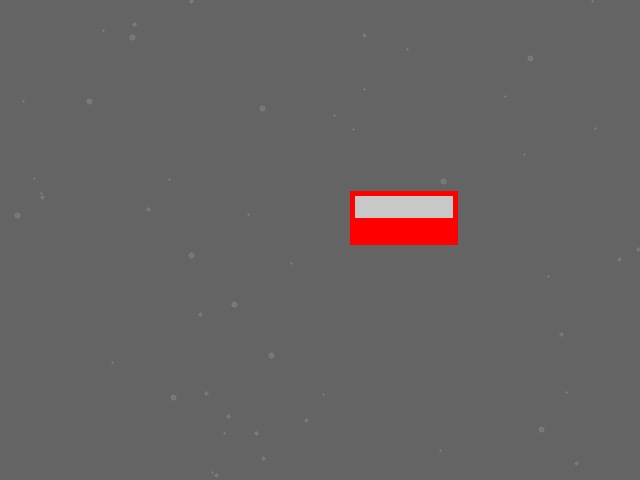car: (350, 191, 457, 244)
